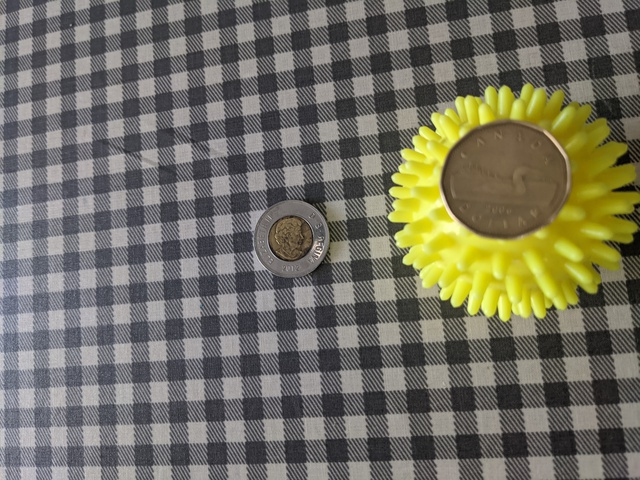loonie: (432, 112, 576, 244)
twonie: (253, 198, 338, 278)
